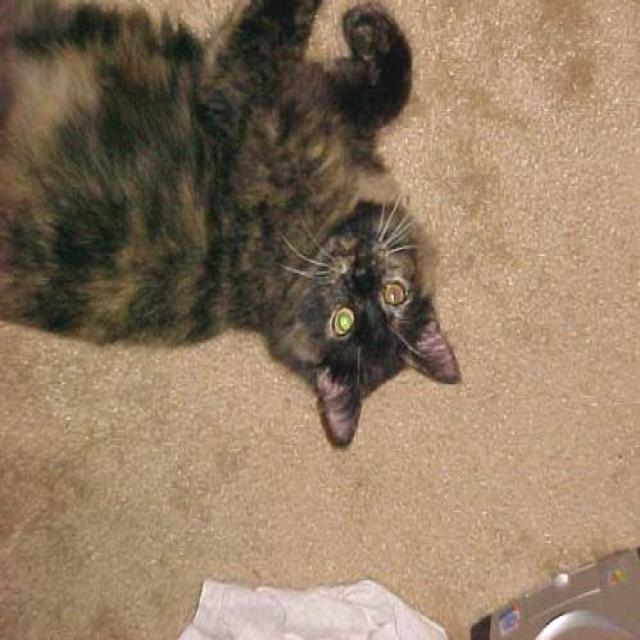Kucing: (4, 4, 540, 482)
